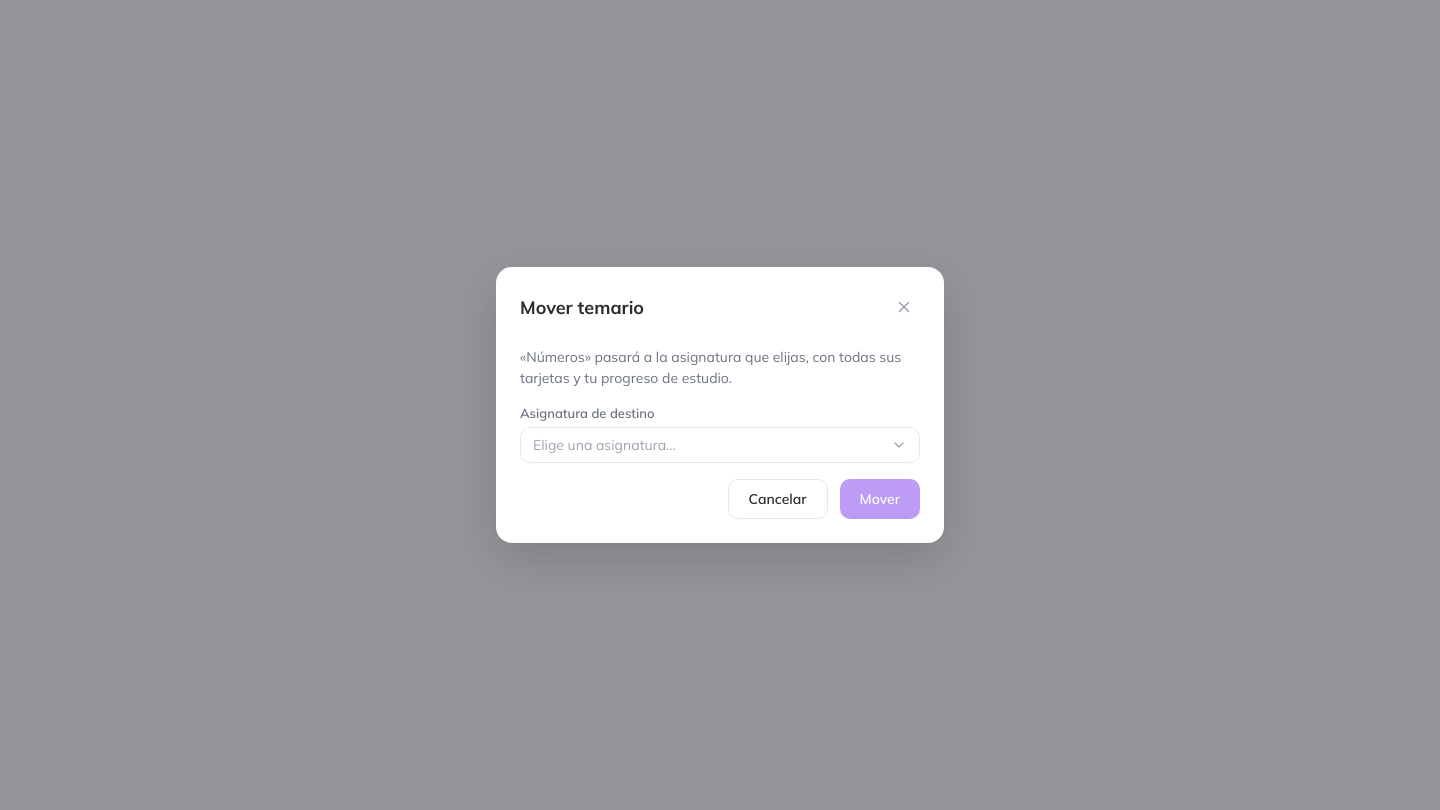
Test: MoveCategoryModal › ofrece las demás asignaturas y excluye la actual
Click the dropdown named "Asignatura de destino" at [604, 445], box top-left (520, 427), bottom-right (920, 463)
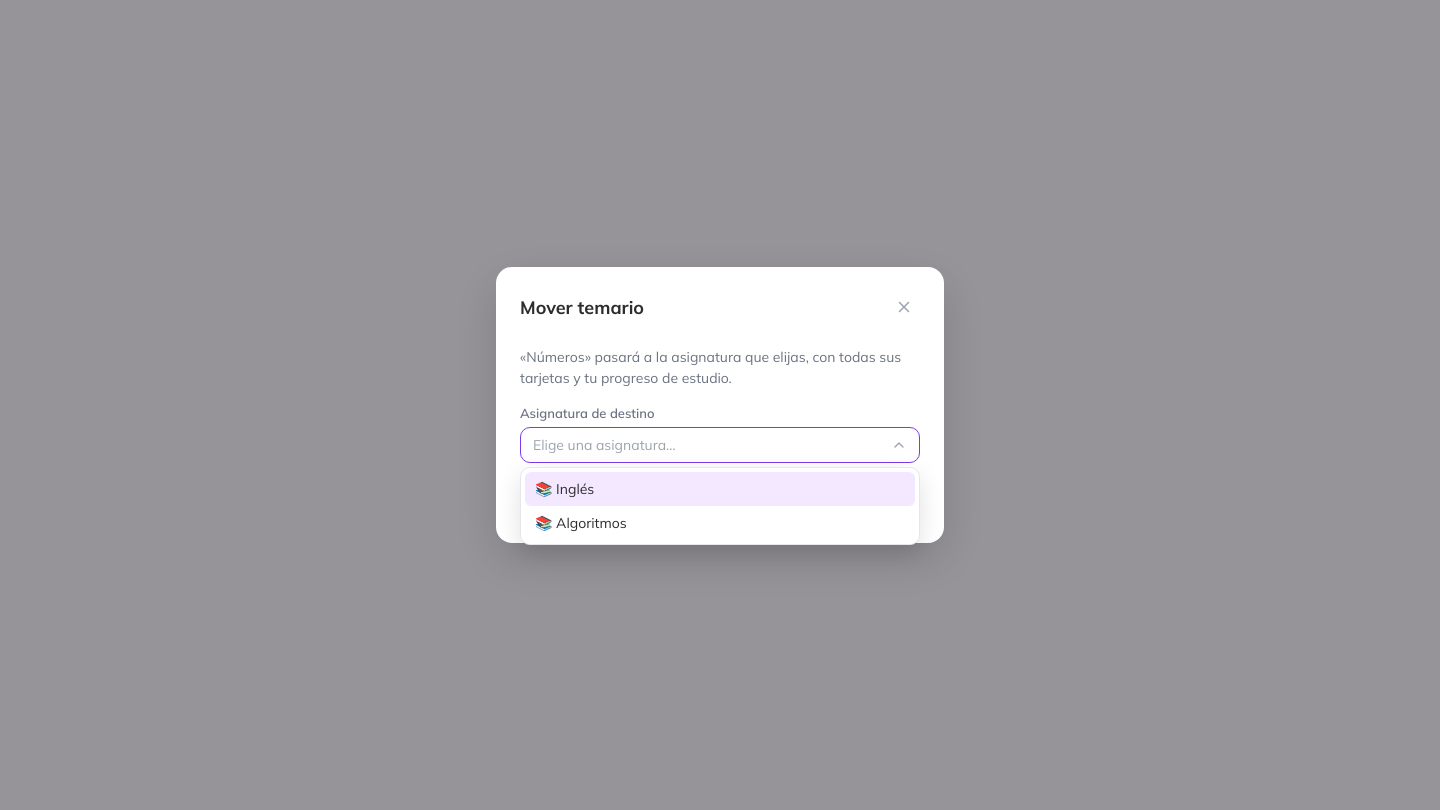
Expected: the option "📚 Inglés" is shown, top-left (525, 472), bottom-right (915, 506)
Expected: the option "📚 Algoritmos" is shown, top-left (535, 514), bottom-right (627, 532)
